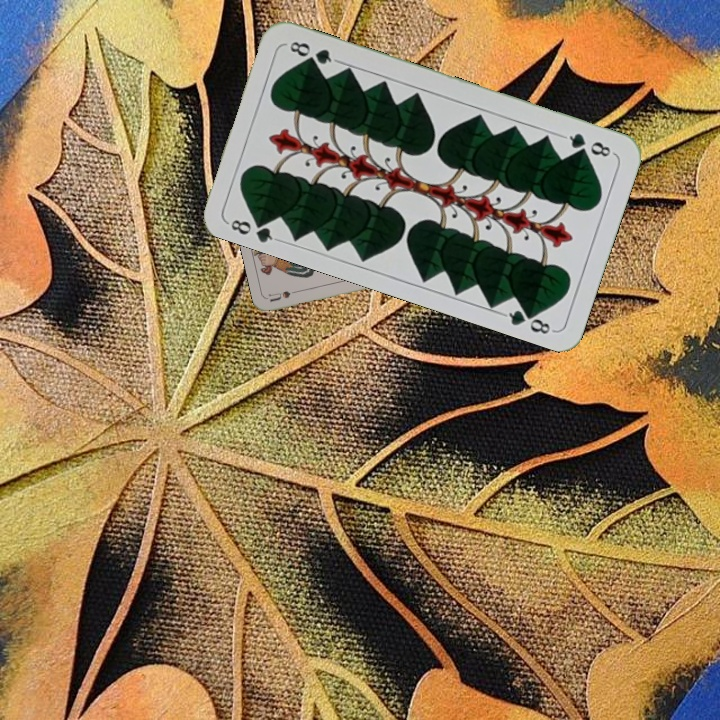G8: (224, 212, 281, 245), (559, 129, 616, 160)
SU: (266, 285, 307, 304)
